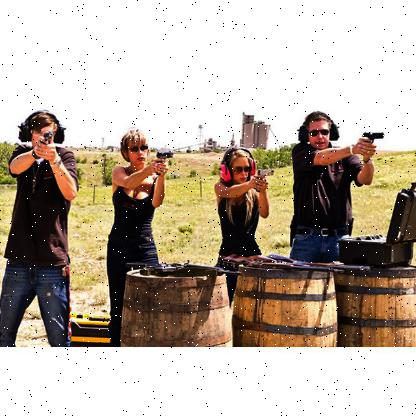gun: (359, 130, 383, 156), (254, 167, 274, 191), (154, 150, 172, 172), (42, 131, 52, 153)
